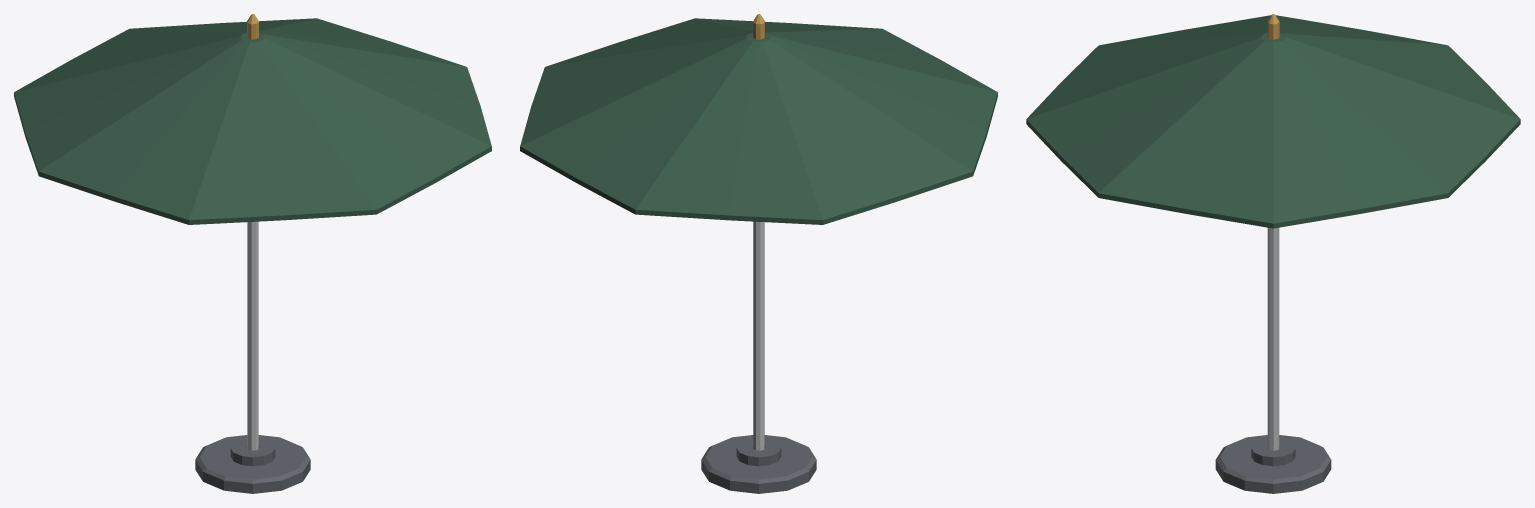
The model's file is FN_Parasol_Garden.glb.
3 views of the same model, side by side, from view 1: azimuth 30°, elevation 25°; view 2: azimuth 150°, elevation 25°; view 3: azimuth 270°, elevation 25° (orthographic).
Visible parts, largest first — view 1: FN_Parasol_Garden; view 2: FN_Parasol_Garden; view 3: FN_Parasol_Garden.
Boxes of the visible parts, box(x1,y1,x2,y2) form: FN_Parasol_Garden: box(14, 14, 491, 493); FN_Parasol_Garden: box(520, 14, 997, 493); FN_Parasol_Garden: box(1026, 14, 1520, 493).
Bounding box in the file's own units: 2.4 × 2.44 × 2.4.
Materials: 1 (1 with a texture image).
